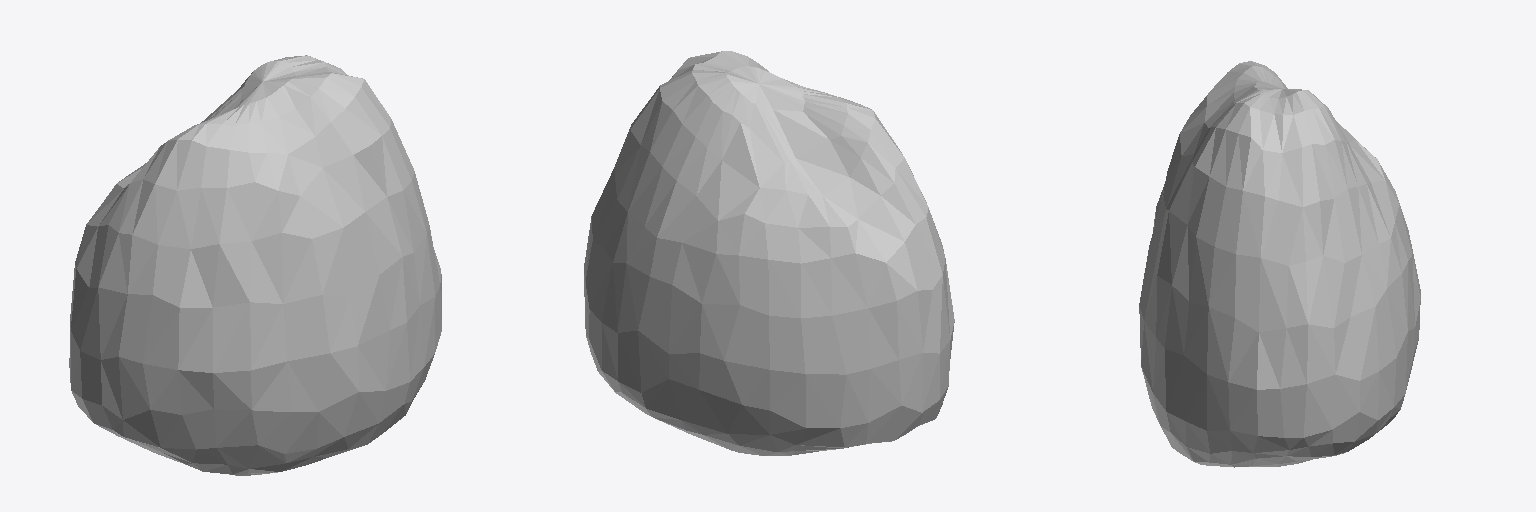
File: O_IceWorldGiantHail_a.obj
3 views of the same model, side by side, from view 1: azimuth 30°, elevation 25°; view 2: azimuth 150°, elevation 25°; view 3: azimuth 270°, elevation 25° (orthographic).
Visible parts, largest first — view 1: O_IceWorldGiantHail_a; view 2: O_IceWorldGiantHail_a; view 3: O_IceWorldGiantHail_a.
Part boxes in pixels (x1,y1,x2,y2): O_IceWorldGiantHail_a: (69,55,441,475); O_IceWorldGiantHail_a: (584,51,954,455); O_IceWorldGiantHail_a: (1139,61,1420,467).
Bounding box in the file's own units: 86.88 × 86.29 × 60.92.